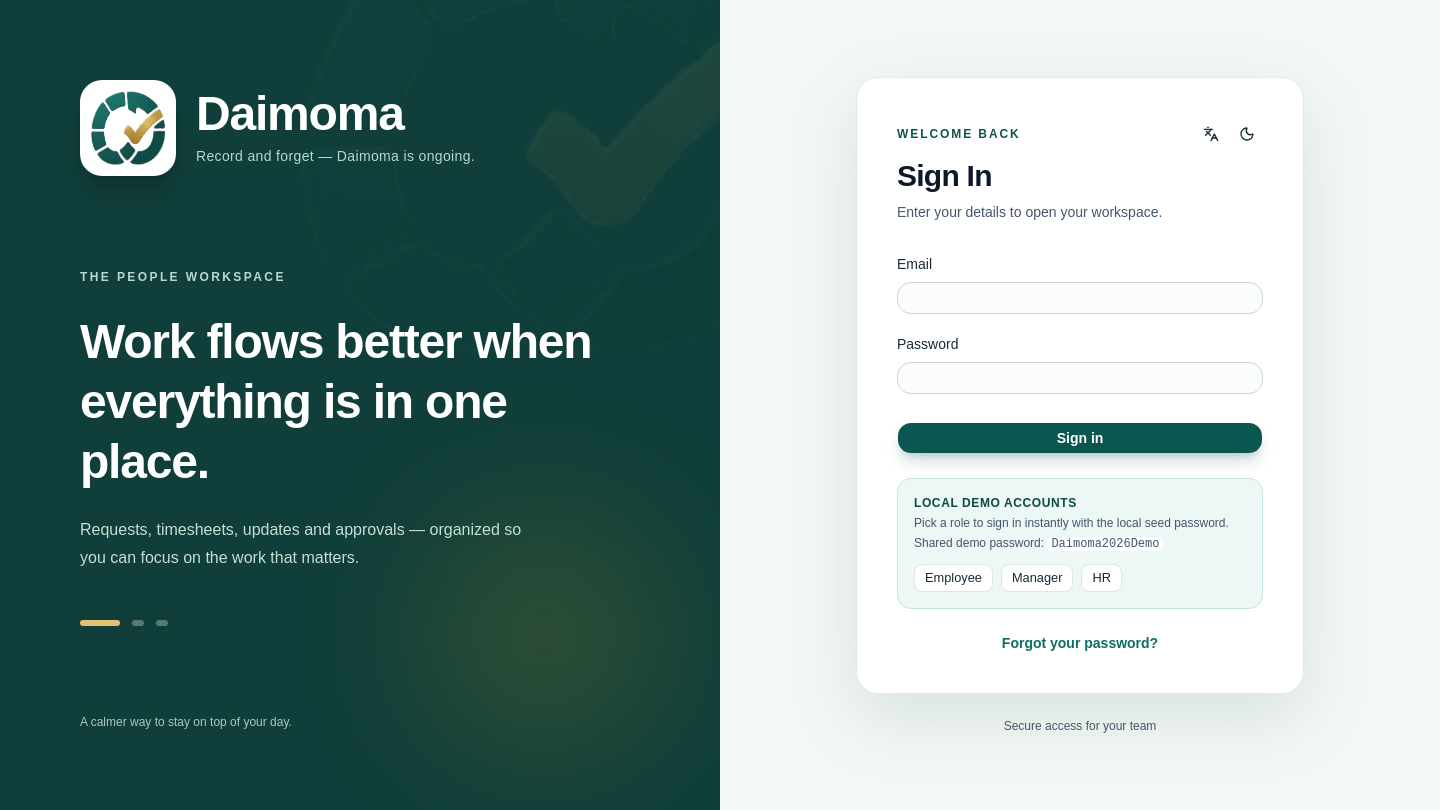
Test: LoginPage › shows a generic error on rejected credentials
The width and height of the screenshot is (1440, 810).
Type "a@b.test" into the field labelled "Email".
click(1080, 298); type("a@b.test")  # box top-left (897, 282), bottom-right (1263, 314)
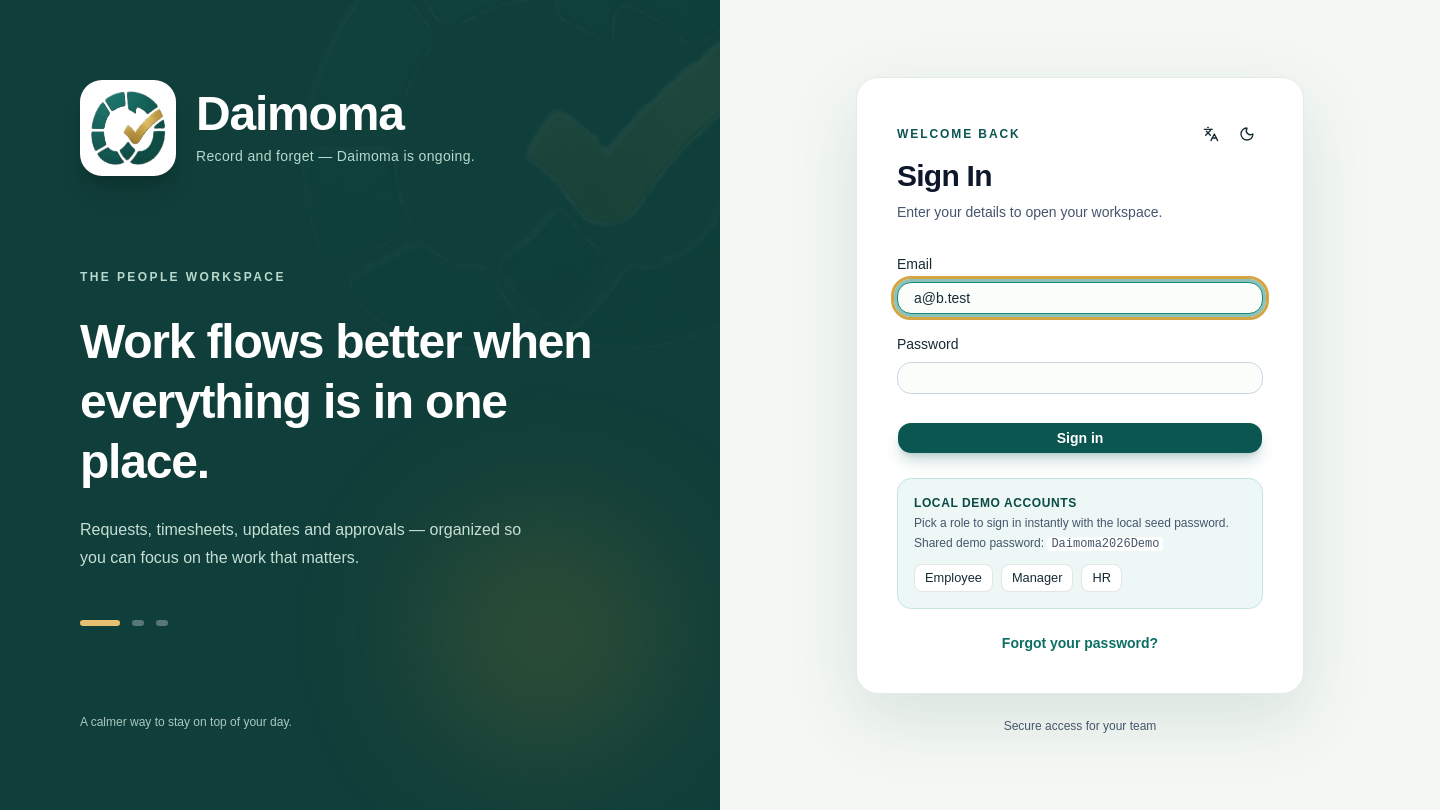
Type "whatever" into the password field labelled "Password".
click(1080, 378); type("whatever")  # box top-left (897, 362), bottom-right (1263, 394)
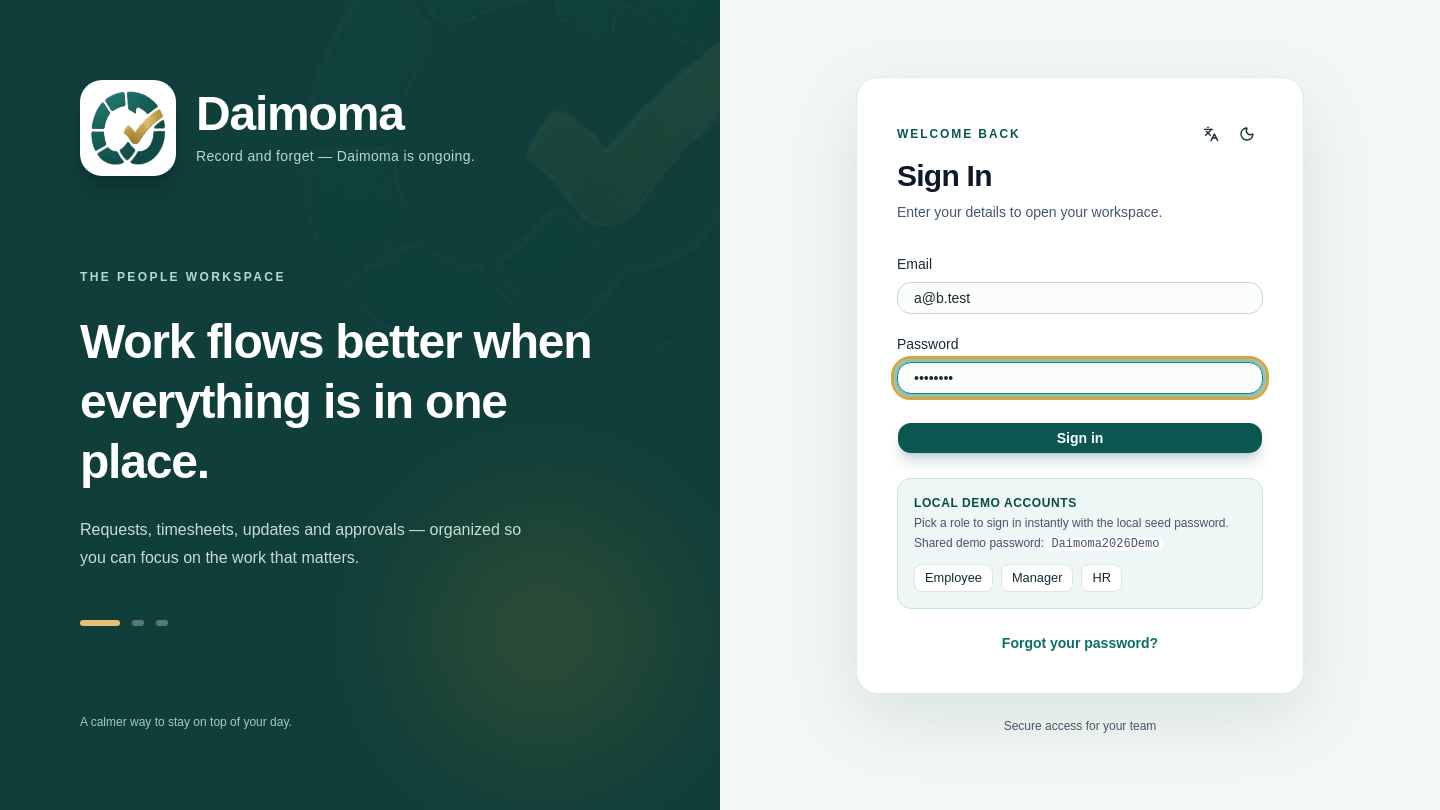
Click the button "Sign in".
click(1080, 438)  # box top-left (897, 422), bottom-right (1263, 454)
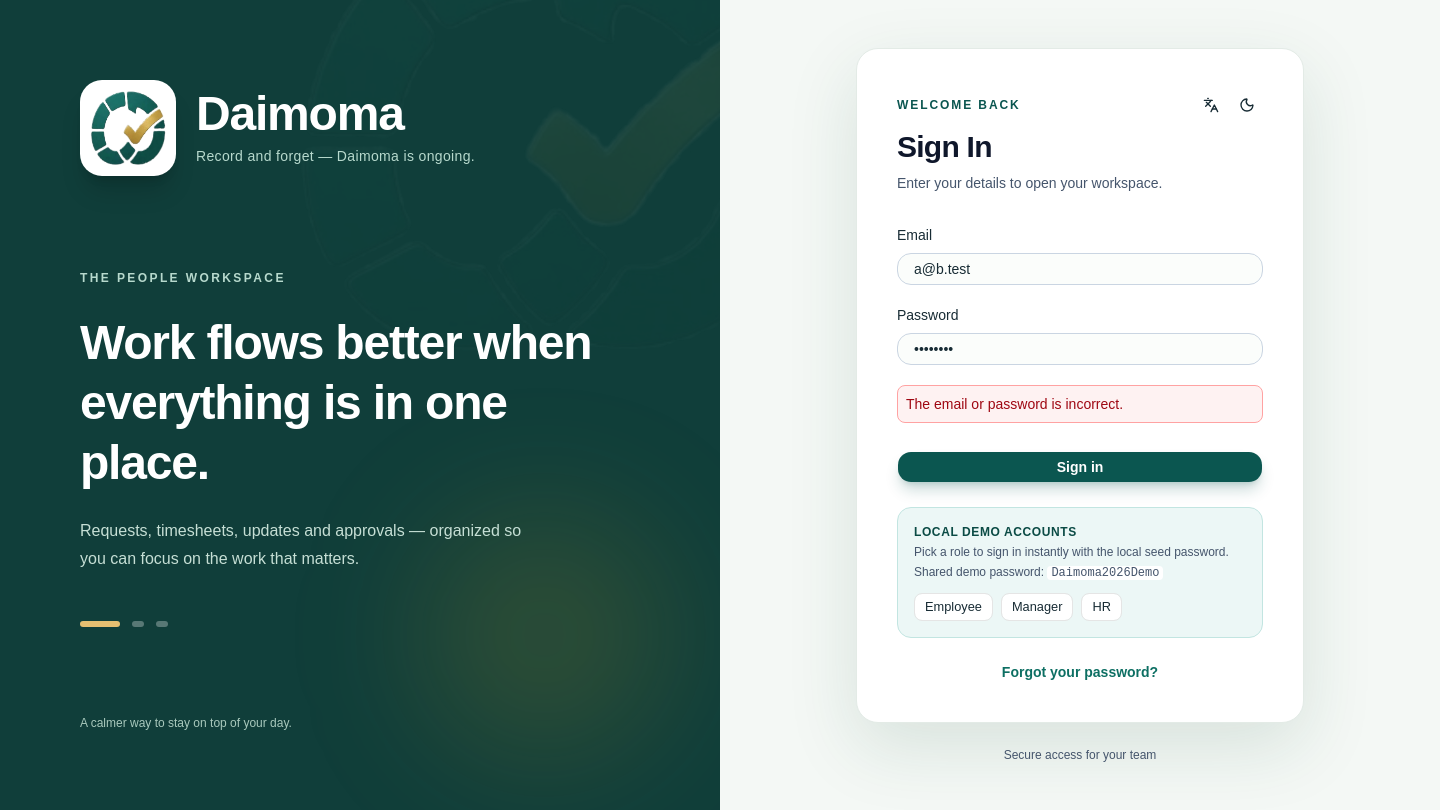
Now the message shows "email or password is incorrect", box top-left (906, 396), bottom-right (1123, 412)
